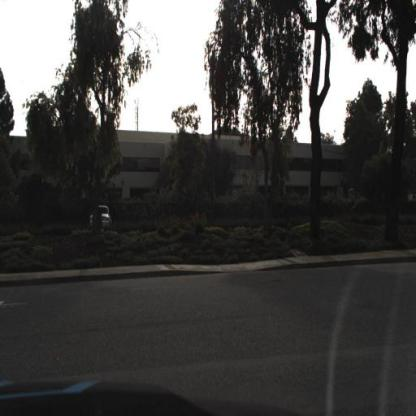car: (91, 206, 112, 230)
